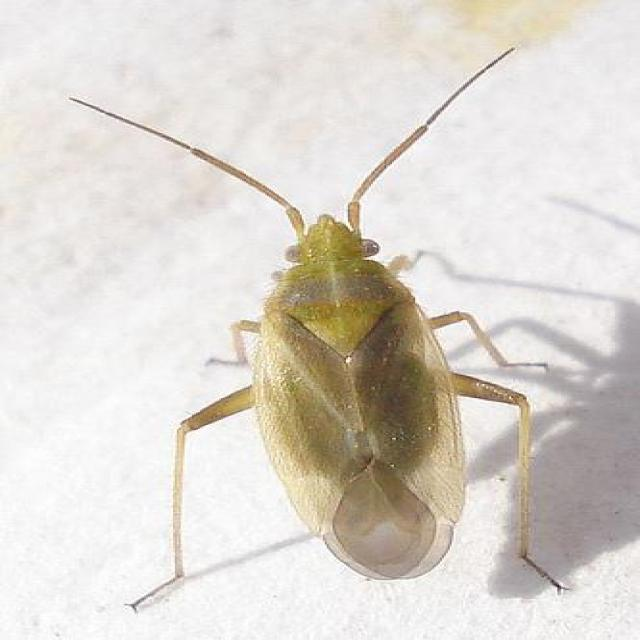Miridae-Adult-: (40, 40, 582, 613)
